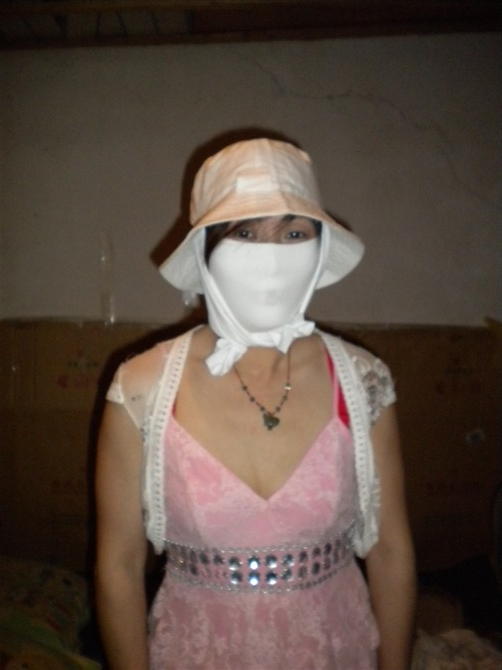face_mask: (211, 172, 315, 332)
